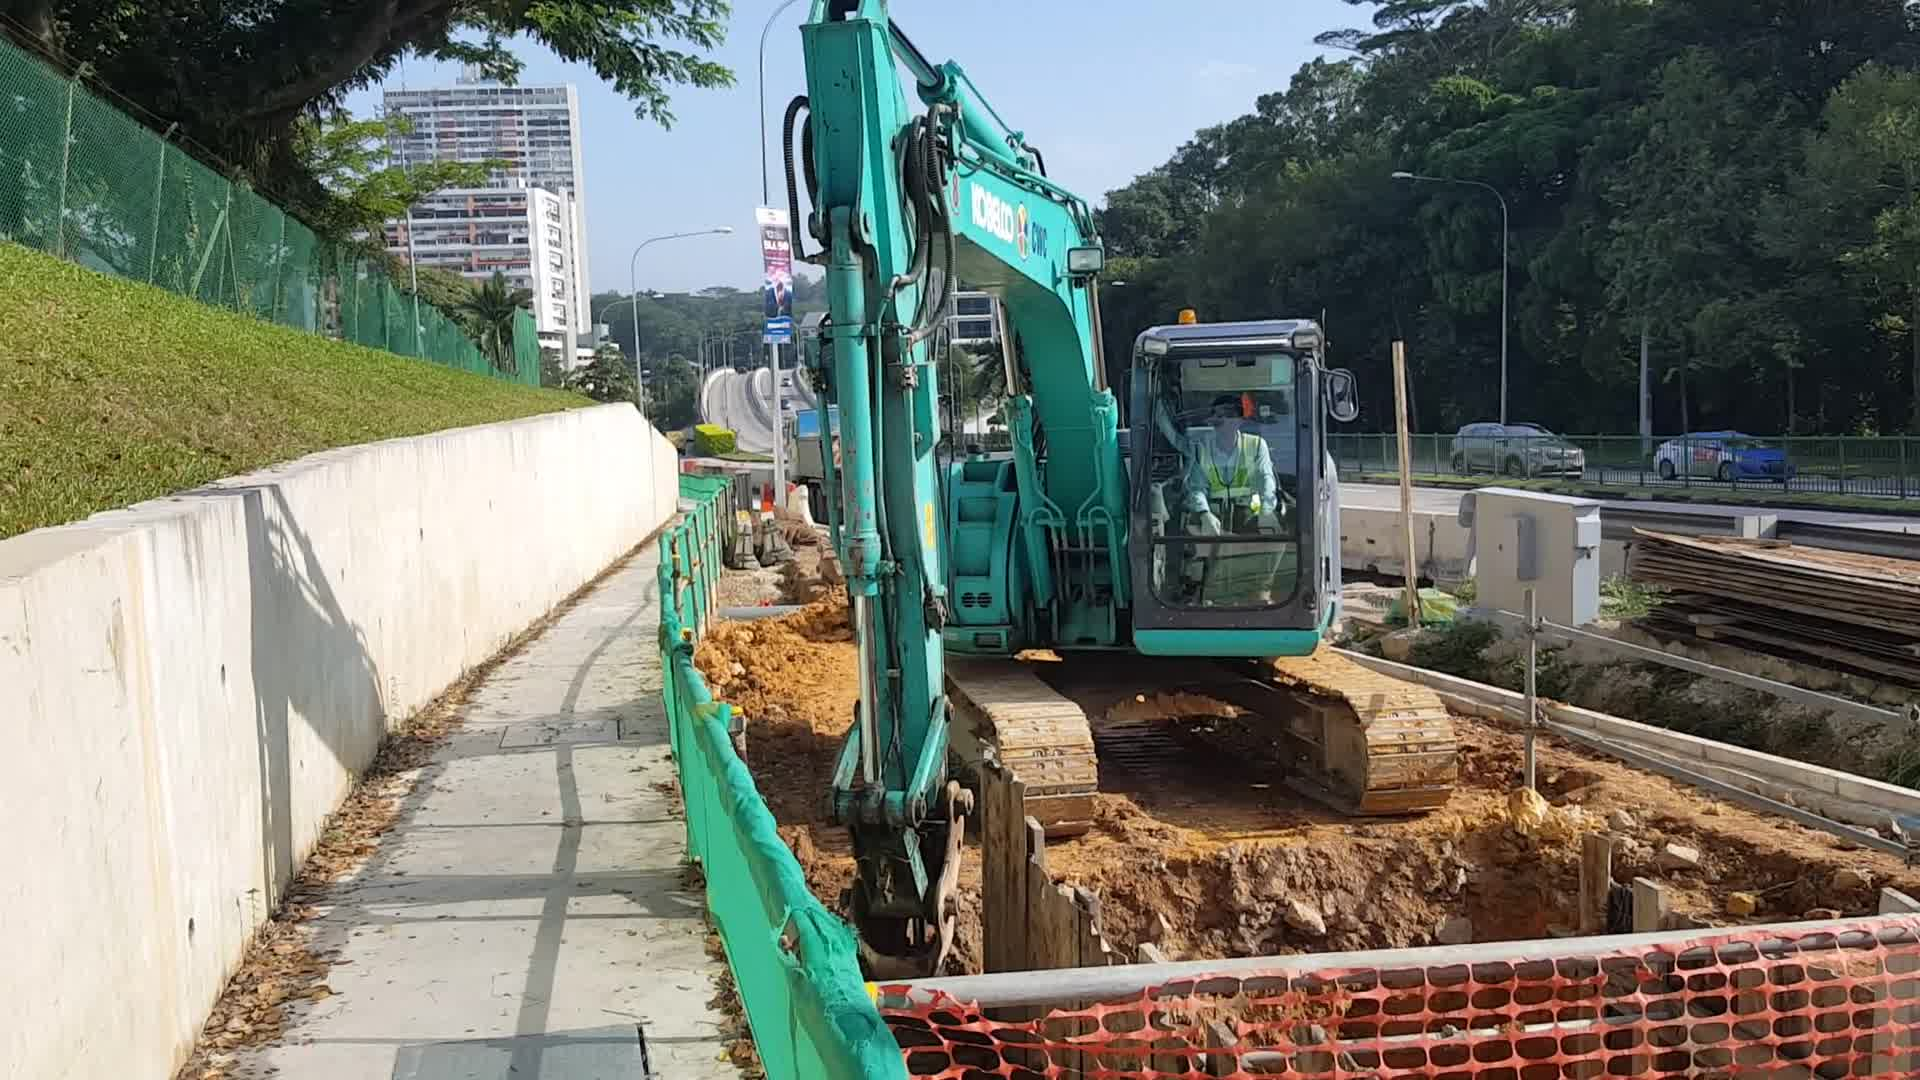cabin: (934, 313, 1353, 657)
forearm: (798, 1, 953, 808)
upperarm: (913, 138, 1133, 655)
wheelbase: (947, 657, 1458, 833)
